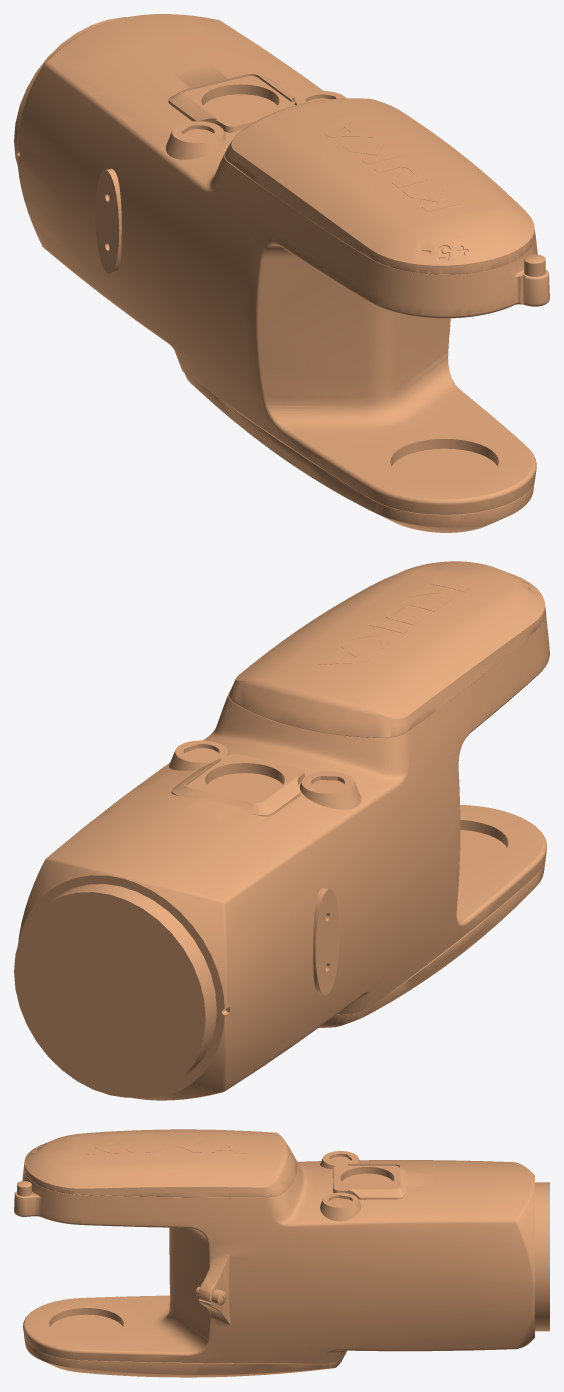
The picture shows the model from 3 angles, top to bottom: view 1: azimuth 30°, elevation 25°; view 2: azimuth 150°, elevation 25°; view 3: azimuth 270°, elevation 25°; orthographic projection. The views are drawn at different scales.
Visible parts, largest first — view 1: /Link4/Link4_003-mesh/0; view 2: /Link4/Link4_003-mesh/0; view 3: /Link4/Link4_003-mesh/0.
Boxes of the visible parts, x1,y1,x2,y2 form: /Link4/Link4_003-mesh/0: (14,14,549,532); /Link4/Link4_003-mesh/0: (14,561,549,1100); /Link4/Link4_003-mesh/0: (14,1129,549,1377).
Bounding box in the file's own units: 0.127 × 0.1595 × 0.3585.
